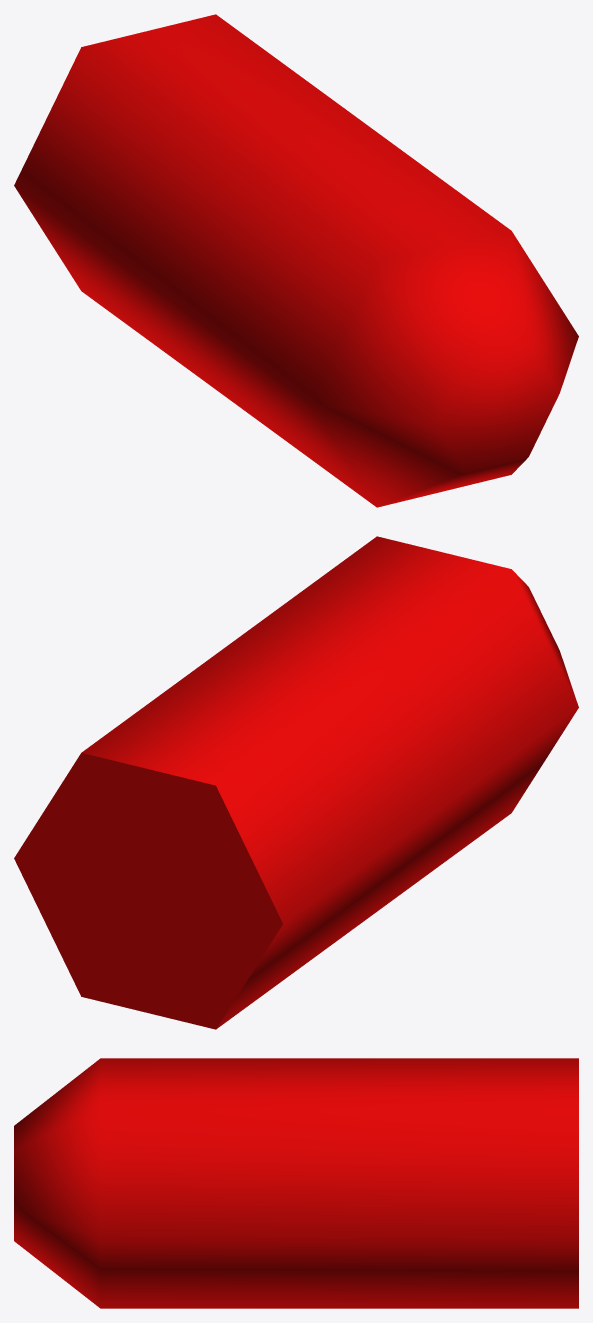
The model's file is Bala_Player.fbx.
3 views of the same model, one above another, from view 1: azimuth 30°, elevation 25°; view 2: azimuth 150°, elevation 25°; view 3: azimuth 270°, elevation 25° (orthographic). The views are drawn at different scales.
Visible parts, largest first — view 1: Bala; view 2: Bala; view 3: Bala.
Part boxes in pixels (x1,y1,x2,y2): Bala: [14, 14, 578, 507]; Bala: [14, 536, 578, 1029]; Bala: [14, 1058, 578, 1308].
Size of the model in its own units: 53.89 by 46.67 by 121.
